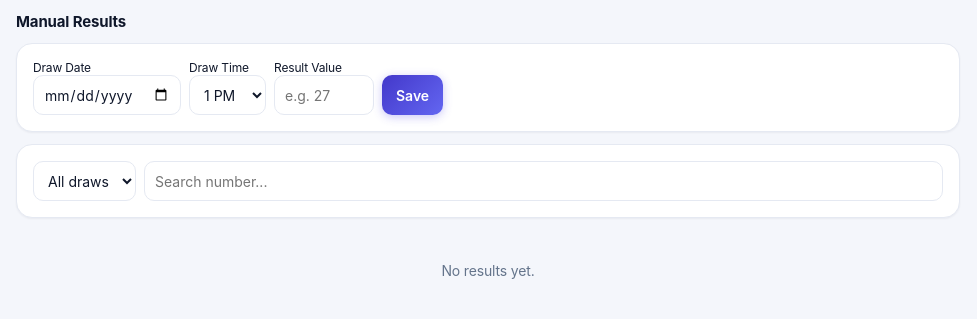
Test: AdminResults page › submits a new result and shows the candidate comparison note
Expected: the text "No results yet." is shown, x1=442 y1=262 x2=535 y2=279
Type "2026-01-01" into the date field labelled "Draw Date".
click(107, 95); type("2026-01-01")  # box x1=33 y1=75 x2=181 y2=115
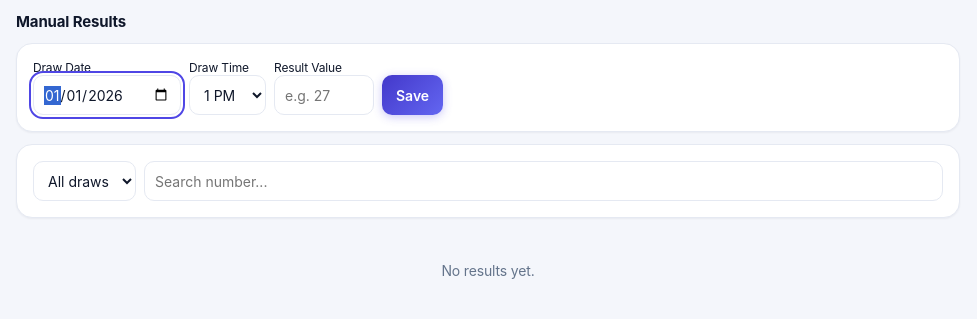
Type "27" into the field with placeholder "e.g. 27".
click(324, 95); type("27")  # box x1=274 y1=75 x2=374 y2=115
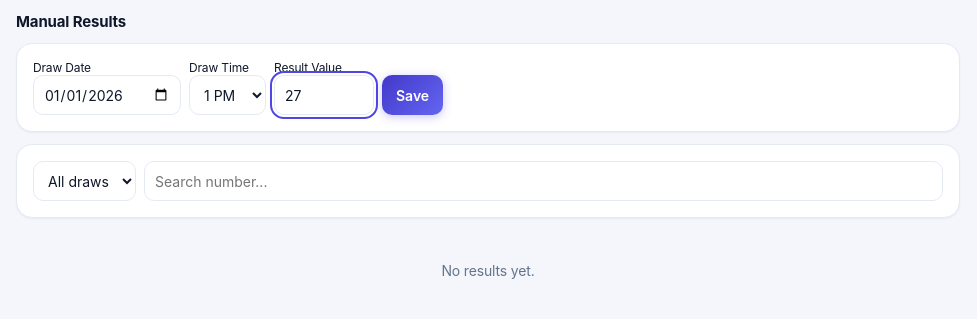
Click the button "Save".
click(413, 95)  # box x1=382 y1=75 x2=443 y2=115
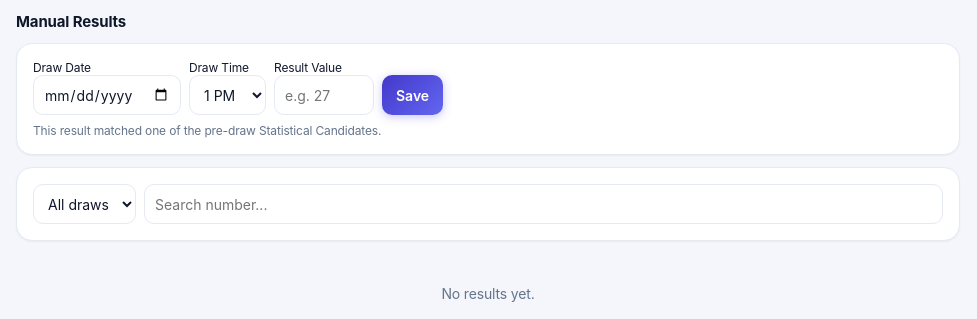
Now the text "matched one of the pre-draw Statistical Candidates" is shown, box x1=33 y1=123 x2=381 y2=138
